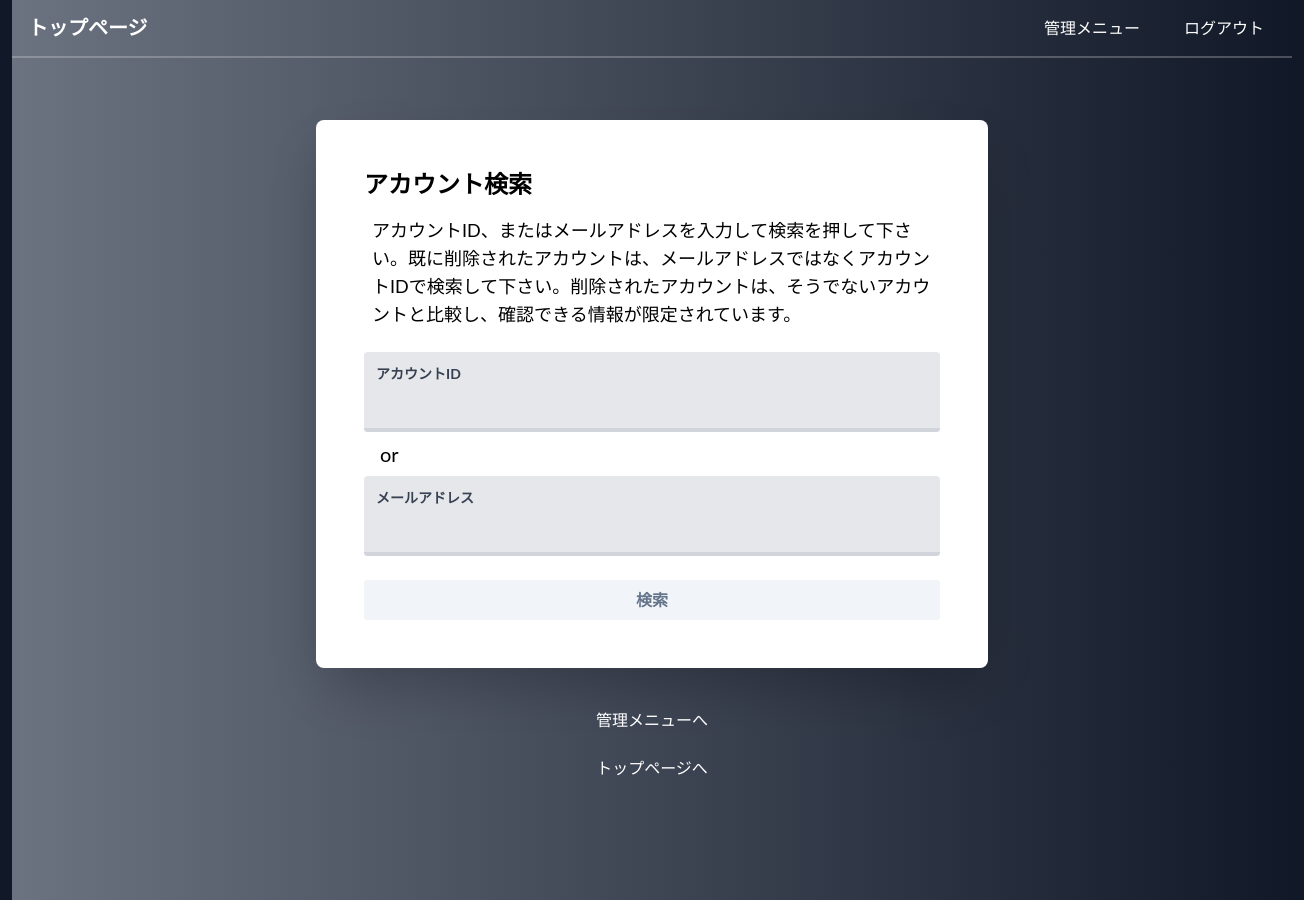
Scenario: UserAccountSearchPage.vue › diaplays disabled button if both input is filled
Type "1" into the field with test id "account-id-value" at point(652, 412), box [364,392,940,432]
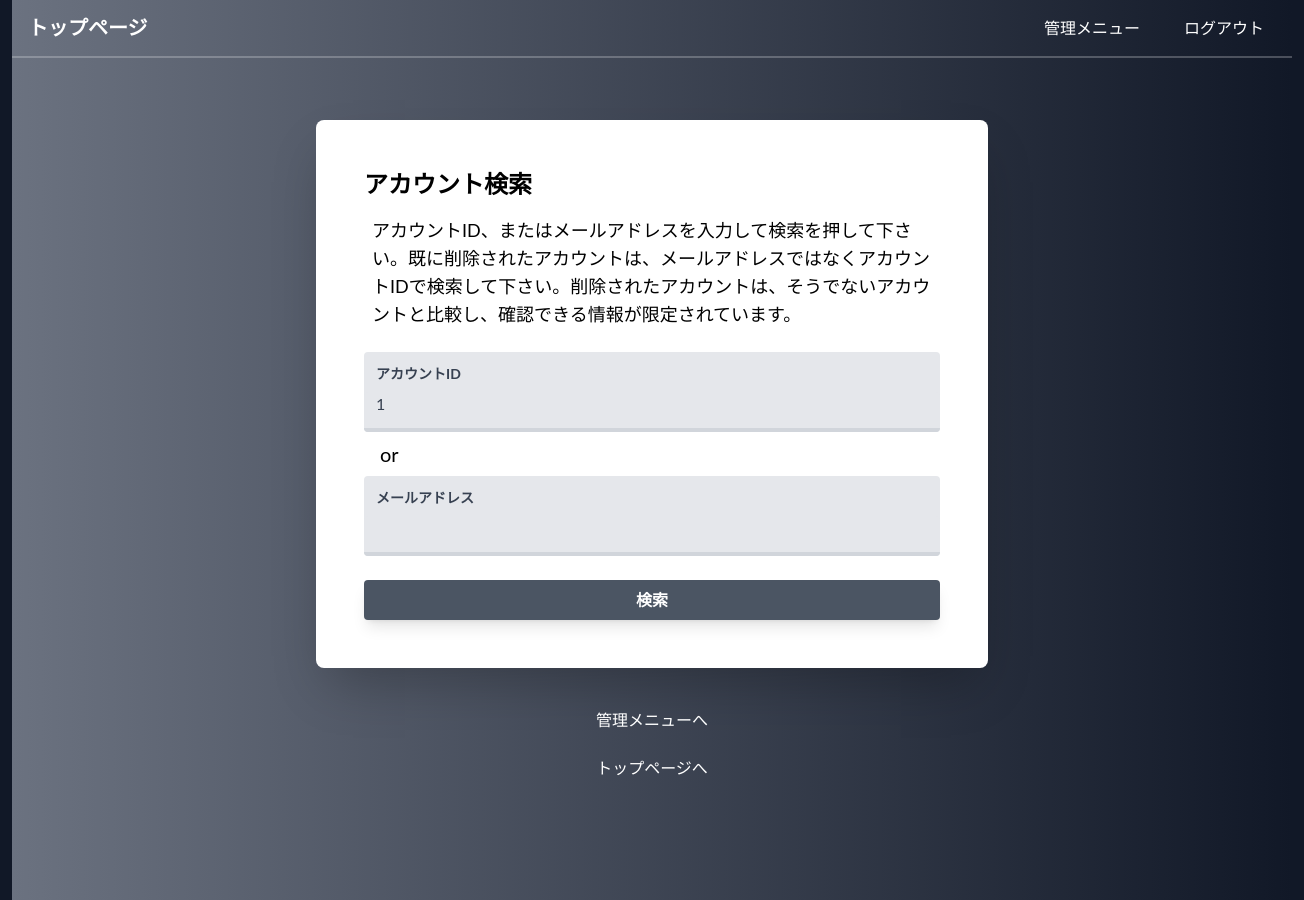
Type "test@test.com" into the field with test id "email-address-value" at point(652, 536), box [364,516,940,556]
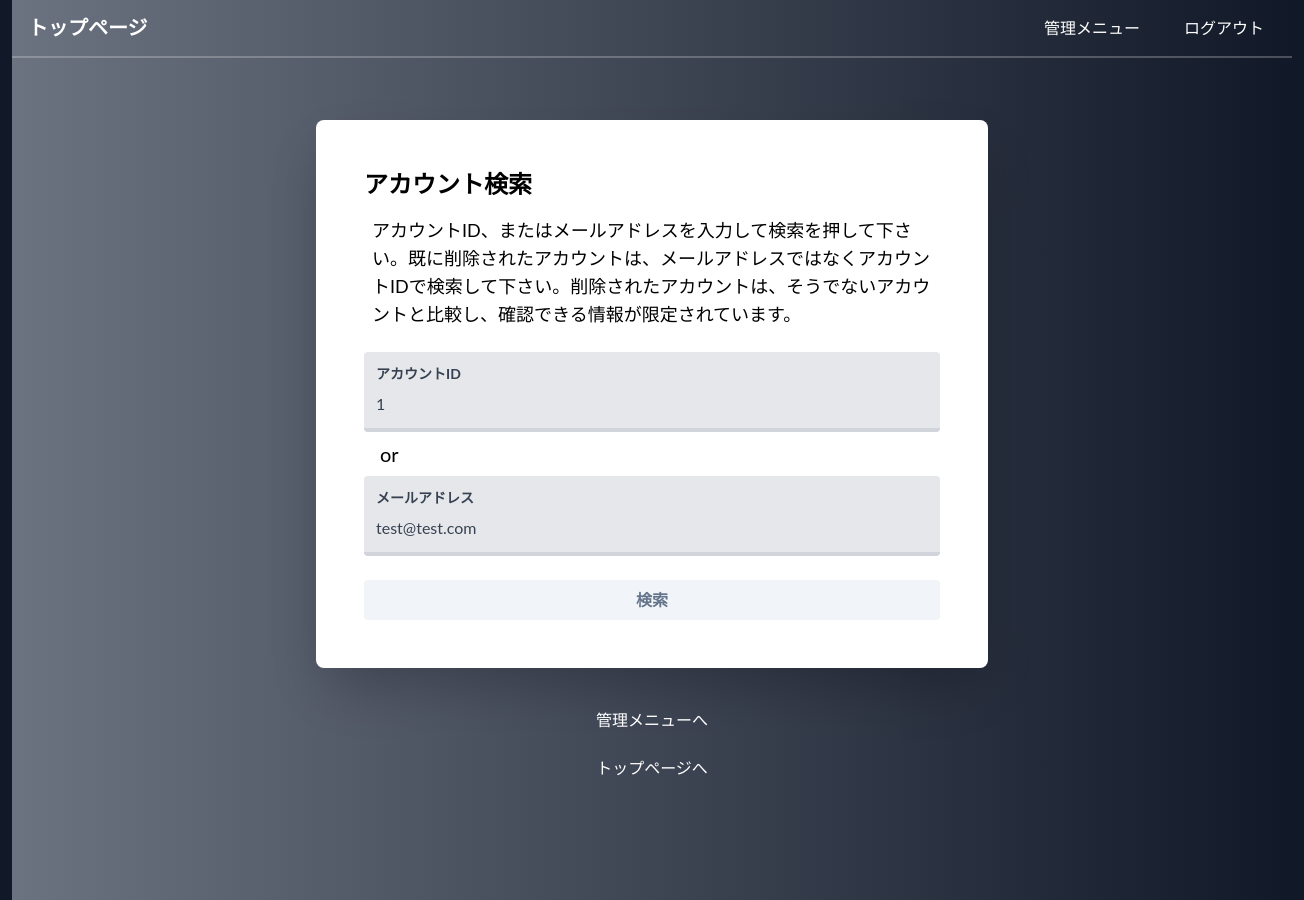
Expected: the button with test id "button" reads "検索", [364,580,940,620]
Expected: the button with test id "button" is disabled, [364,580,940,620]
